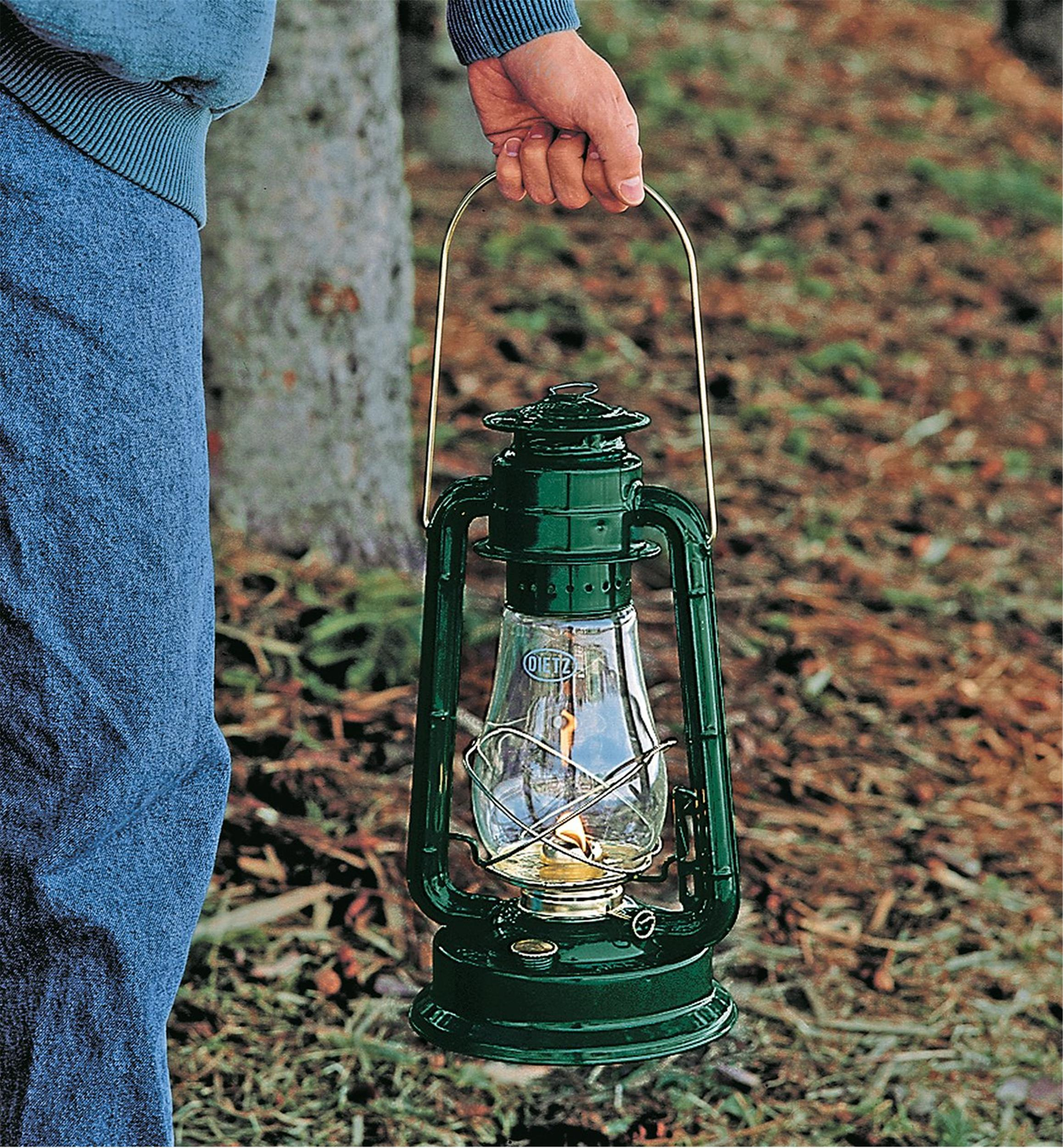Open-Flame-Hazard: (372, 136, 764, 1074)
